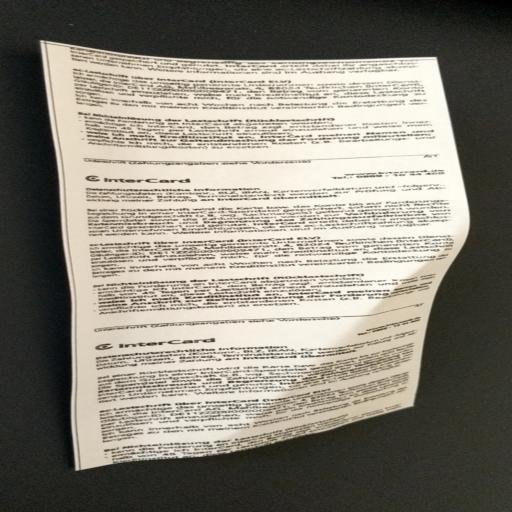paper: (10, 16, 508, 491)
